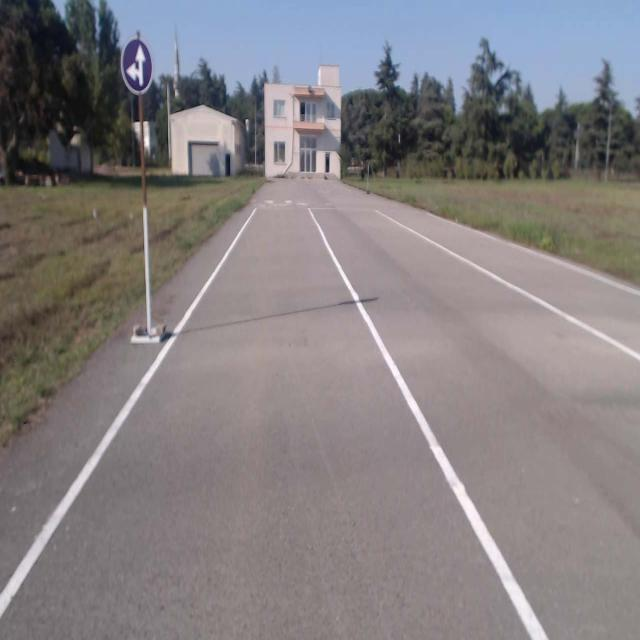ilerisol: (120, 39, 154, 97)
